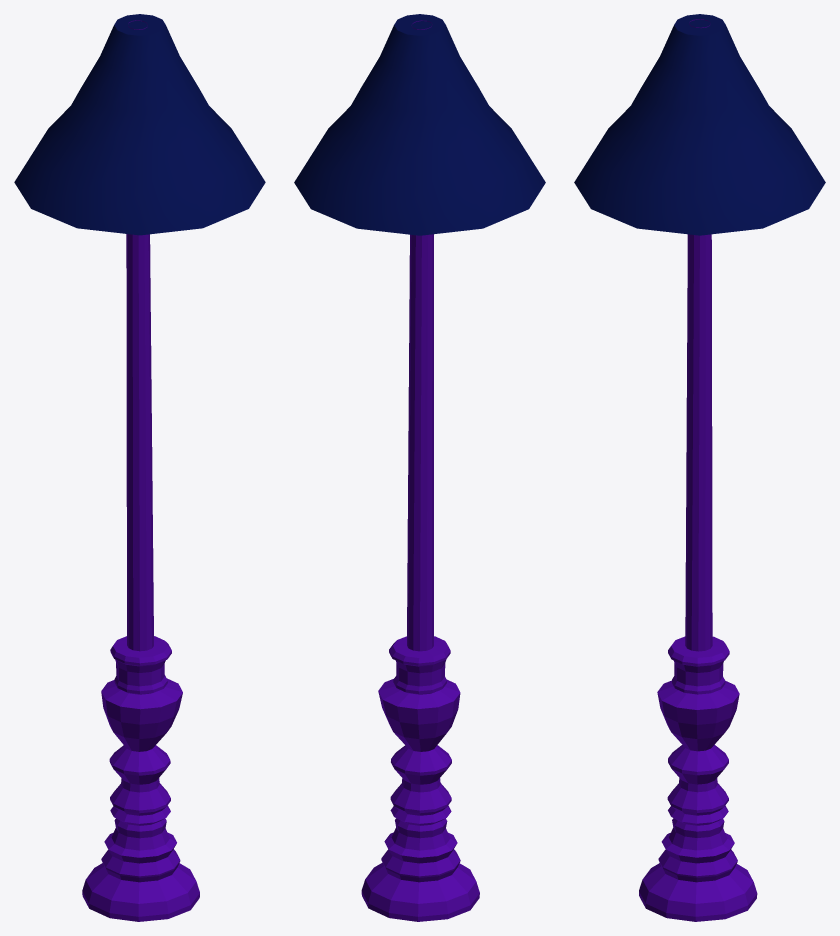
The model's file is ASHISH_LAMP_CORRECT.FBX.
3 views of the same model, side by side, from view 1: azimuth 30°, elevation 25°; view 2: azimuth 150°, elevation 25°; view 3: azimuth 270°, elevation 25° (orthographic).
Parts seen in each view (by area): view 1: Cone002; view 2: Cone002; view 3: Cone002.
Part boxes in pixels (x1=…): Cone002: x1=14, y1=14, x2=265, y2=921; Cone002: x1=294, y1=14, x2=545, y2=921; Cone002: x1=574, y1=14, x2=825, y2=921.
Size of the model in its own units: 39.47 by 151 by 39.47.
